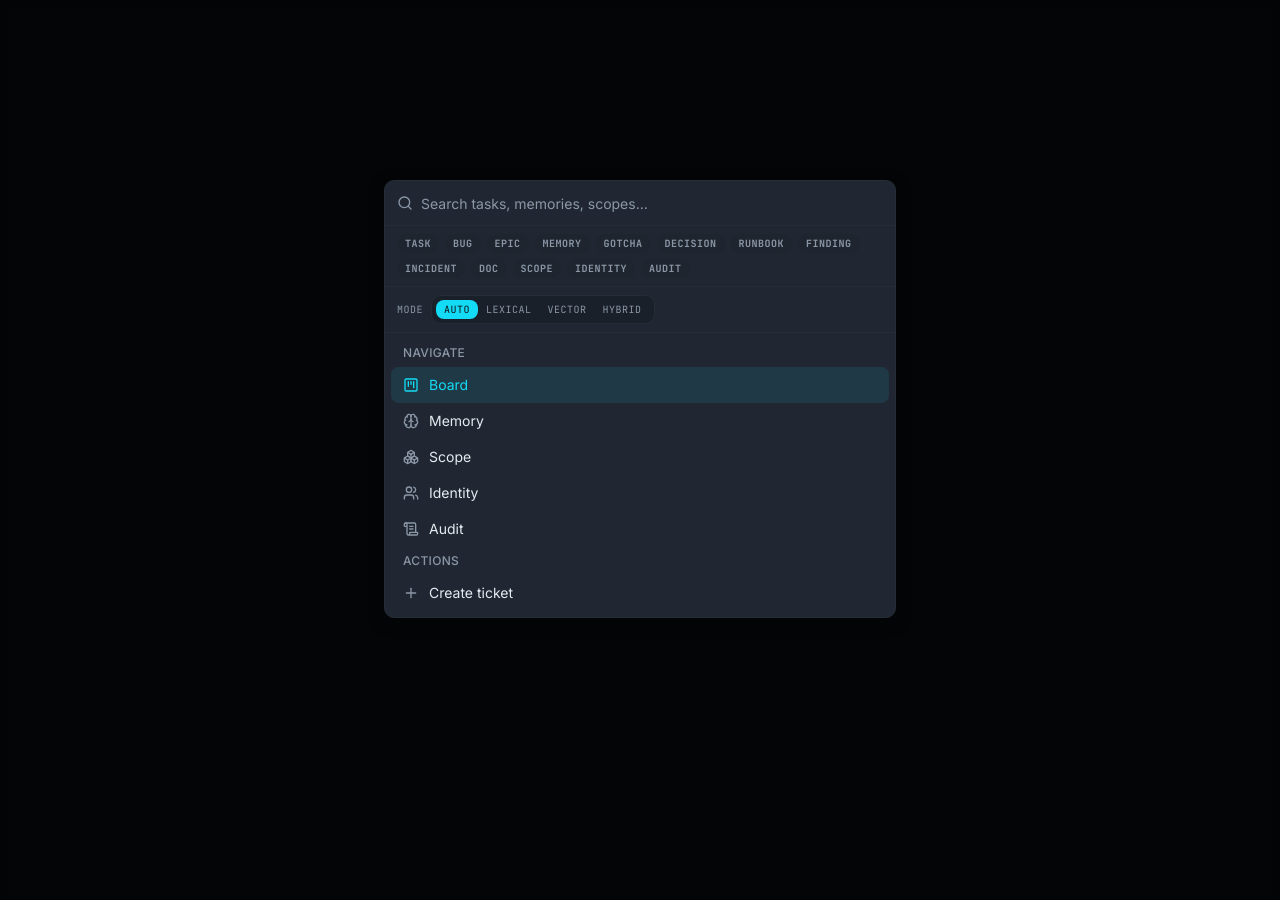
Scenario: <CommandPalette /> › shows live cross-domain results with kind + trust badges
The width and height of the screenshot is (1280, 900).
Expected: the text "Board" is shown, [429,375,468,395]
Type "frobnicator" into the dropdown with placeholder "Search tasks, memories, scopes…" at (652, 203), box [421,181,883,225]
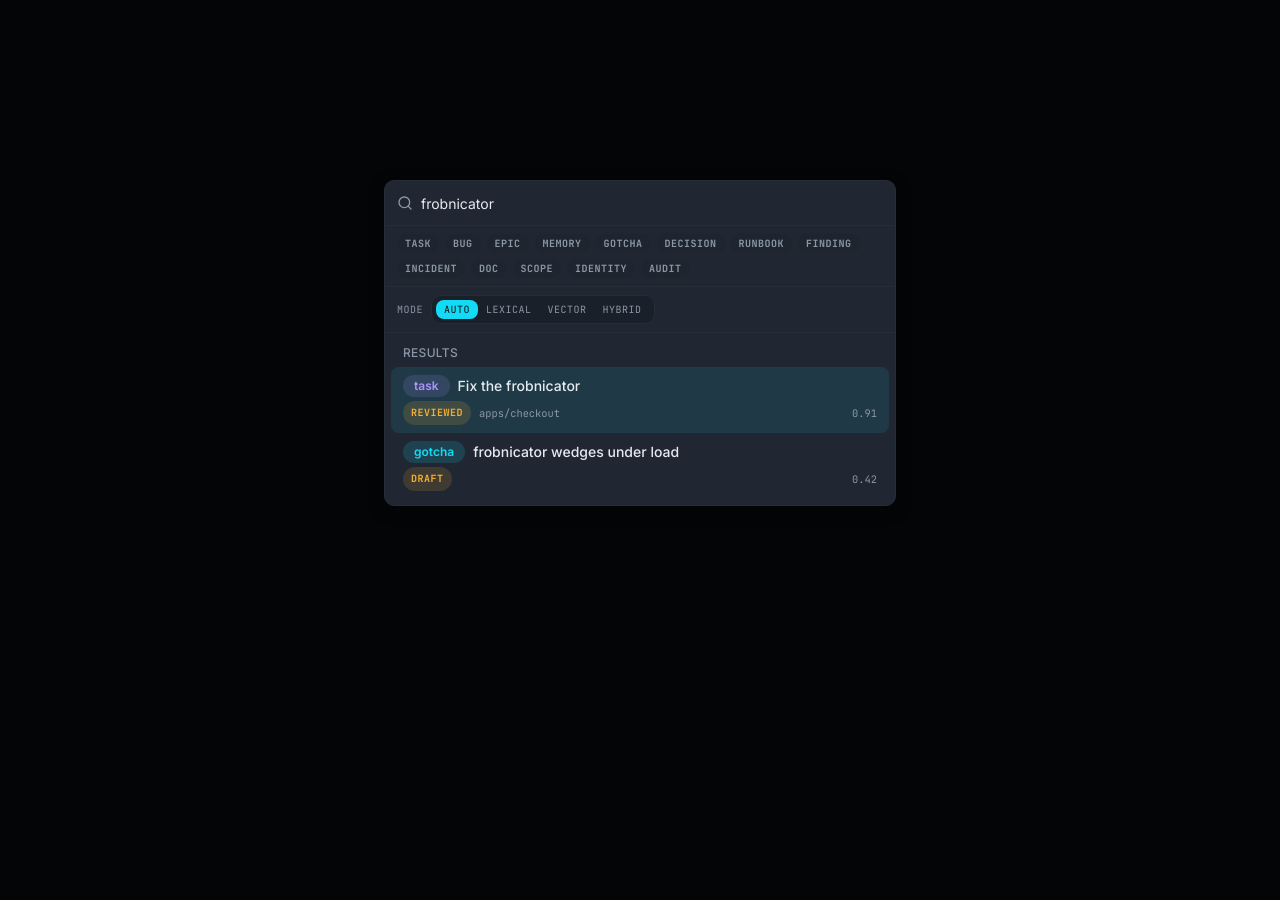
Now the text "Fix the frobnicator" is shown, box [458,376,580,396]
Now the text "frobnicator wedges under load" is shown, box [473,442,679,462]
Now the text "task" is shown, box [403,375,450,397]
